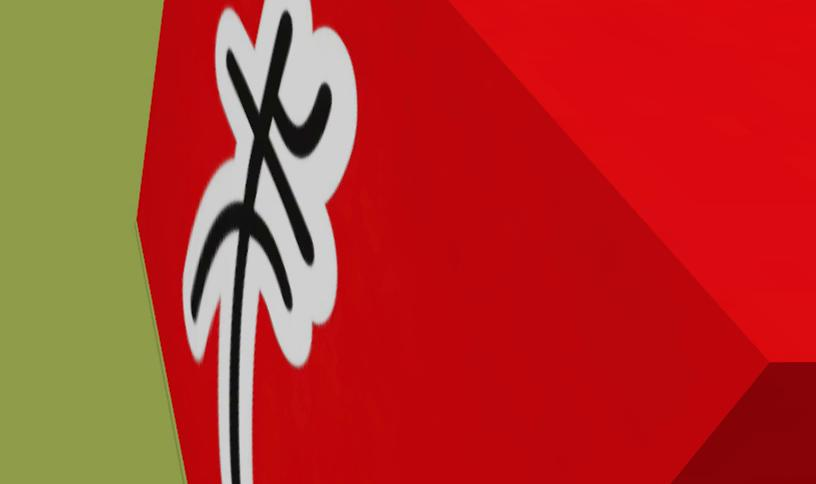KFS_FAKE: (139, 0, 815, 483), (183, 0, 356, 483)
